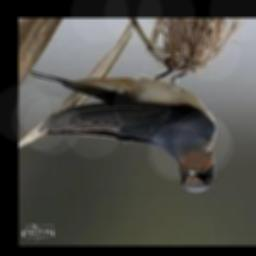Swallow: (26, 70, 218, 193)
